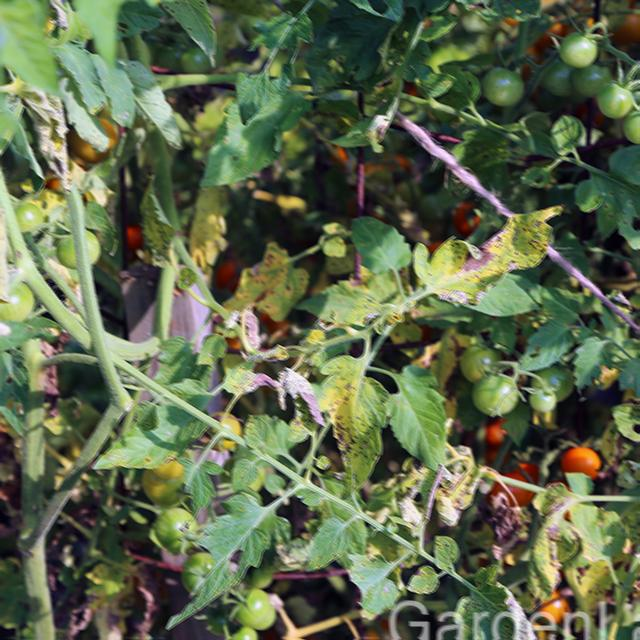Tomato Early blight leaf: (410, 206, 567, 310), (205, 91, 304, 190), (321, 358, 390, 488), (99, 414, 221, 473), (384, 369, 453, 473), (577, 152, 640, 263), (230, 250, 308, 319), (299, 282, 387, 325)
